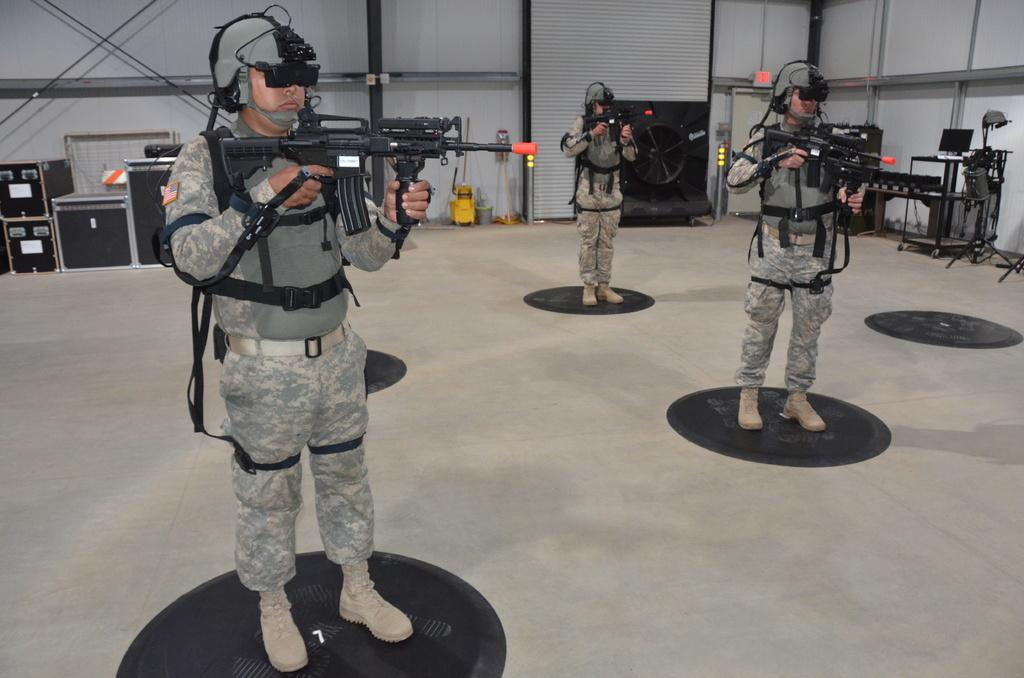non-violence: (173, 53, 407, 678), (724, 63, 864, 434), (559, 85, 636, 304)
weapon: (217, 100, 536, 233), (766, 122, 898, 188), (584, 107, 654, 142)
